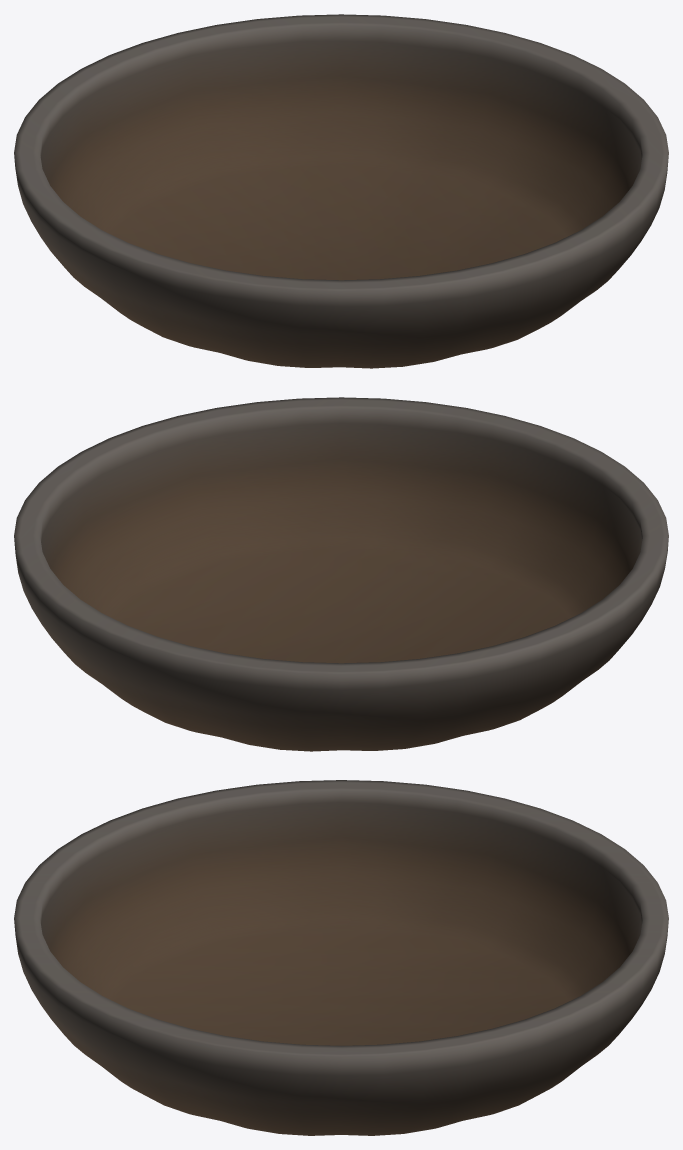
The model's file is pan.fbx.
The picture shows the model from 3 angles, top to bottom: view 1: azimuth 30°, elevation 25°; view 2: azimuth 150°, elevation 25°; view 3: azimuth 270°, elevation 25°; orthographic projection.
Parts seen in each view (by area): view 1: Cylinder.001; view 2: Cylinder.001; view 3: Cylinder.001.
Part boxes in pixels (box(x1,y1,x2,y2)): Cylinder.001: box(14, 14, 668, 368); Cylinder.001: box(14, 397, 668, 751); Cylinder.001: box(14, 780, 668, 1135).
Bounding box in the file's own units: 257 × 54.68 × 257.
